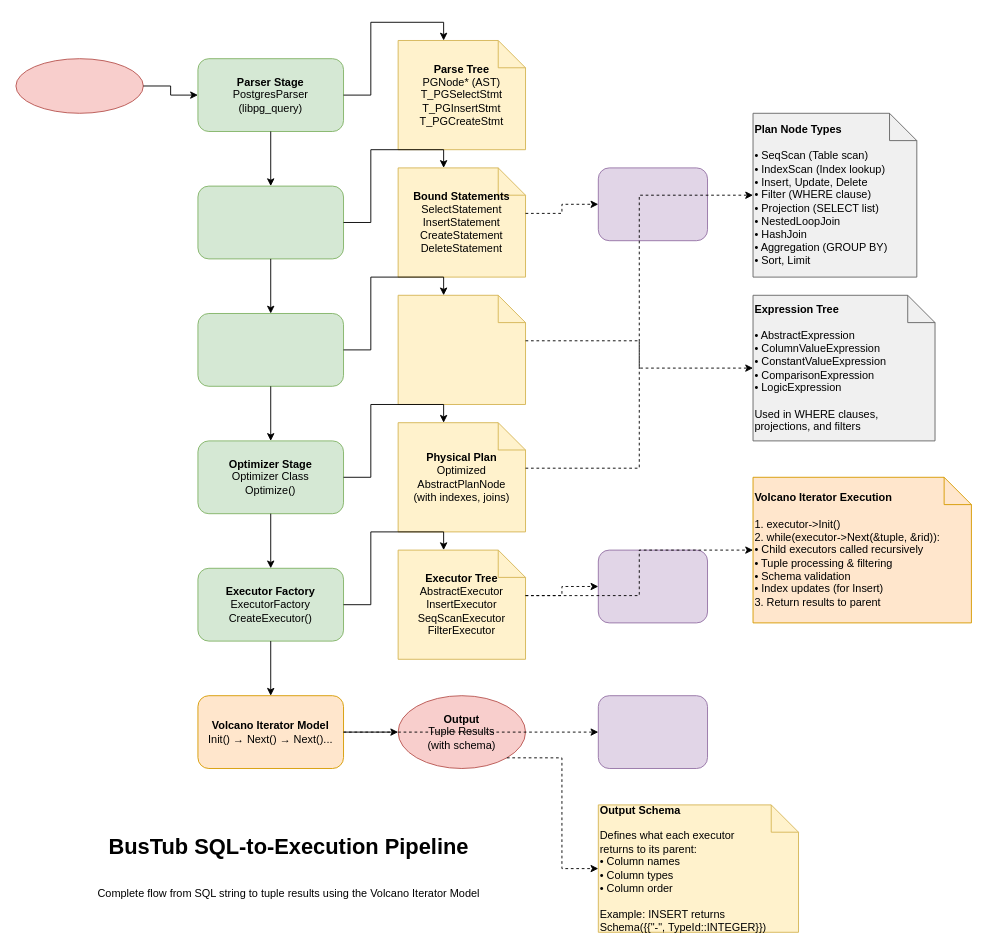
The diagram is 987 pixels wide and 950 high, and some of its shapes have lost their labels. The shapes that lost their labels are listed below. From the top down, each one's box as (x1, y1, x2, y2) in pixels, then its label:
(15, 58, 143, 113): SQL Query String
(197, 185, 344, 259): Binder Stage Binder Class BindStatement()
(597, 167, 708, 241): Catalog Schema Info Table Metadata Index Info
(197, 313, 344, 386): Planner Stage Planner Class PlanQuery()
(397, 294, 526, 404): Logical Plan AbstractPlanNode InsertPlan SeqScanPlan FilterPlan ProjectionPlan
(597, 549, 708, 623): Buffer Pool BufferPoolManager Page Access Disk I/O
(597, 695, 708, 768): Transaction Transaction* Lock Manager ACID Properties
